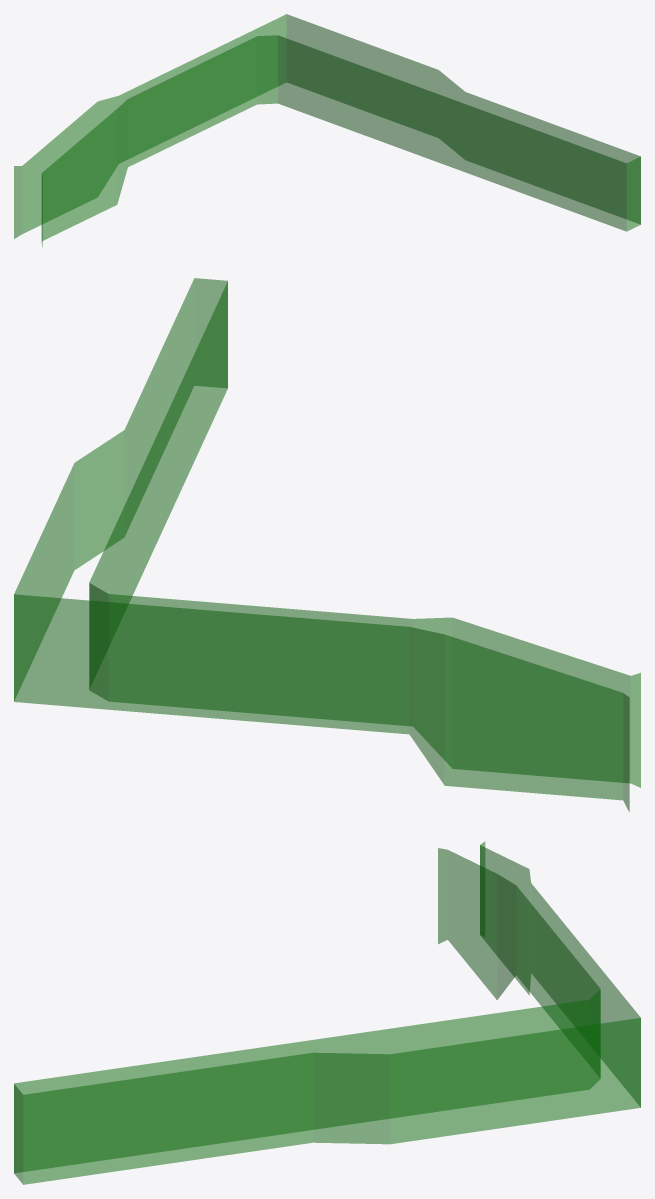
File: wall4.obj
3 views of the same model, one above another, from view 1: azimuth 30°, elevation 25°; view 2: azimuth 150°, elevation 25°; view 3: azimuth 270°, elevation 25° (orthographic). The views are drawn at different scales.
Size of the model in its own units: 346 by 73.96 by 316.
